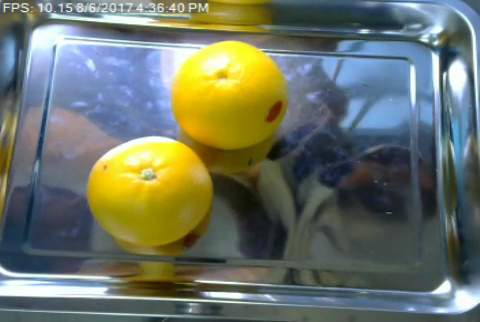Orange: (87, 136, 213, 244), (171, 39, 288, 148)
